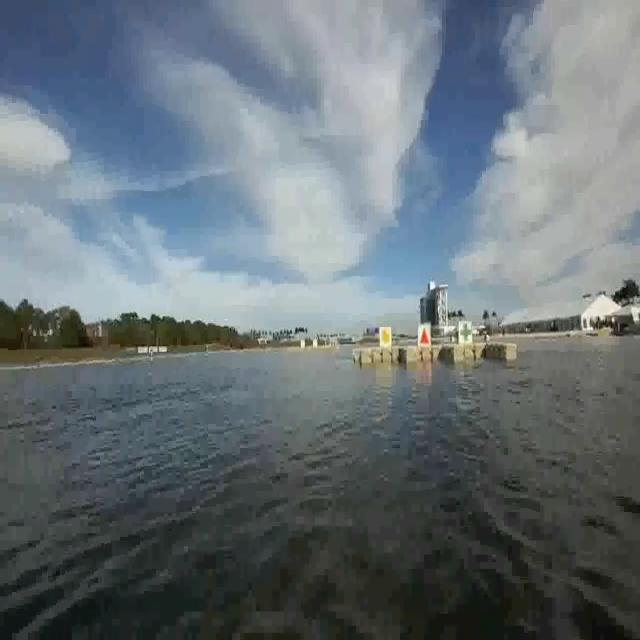blue-cross: (460, 323, 473, 345)
red-dot: (417, 323, 432, 346)
yellow-duck: (377, 324, 392, 350)
